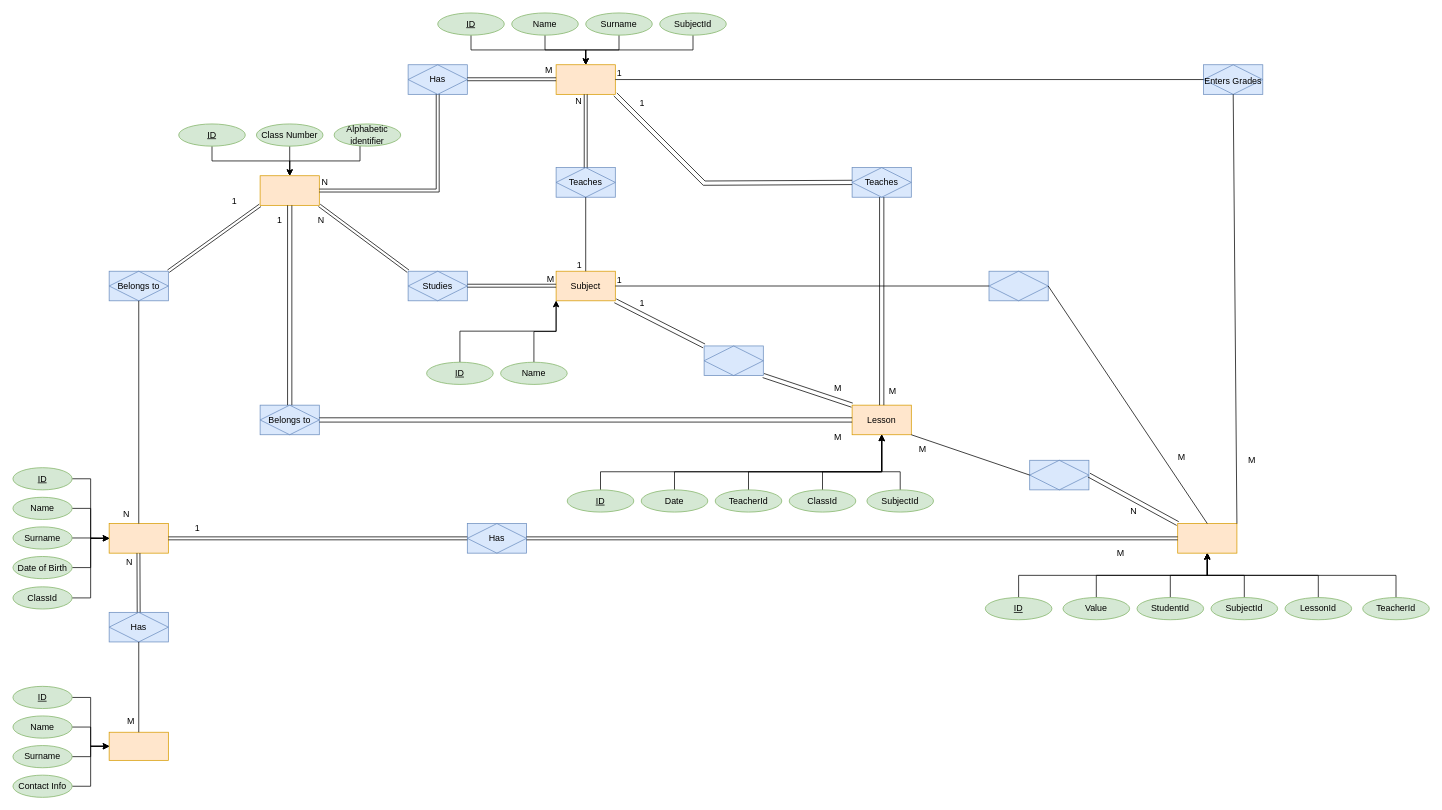
Some shapes in this 1442 by 810 pixel diagram are drawn without their labels. Each missing label, with the centre of its shape:
"Class" goes at point (289, 190).
"Grade" goes at point (1207, 538).
"Has Grades" goes at point (1018, 285).
"Parent" goes at point (138, 745).
"Related to" goes at point (1059, 475).
"Relates to" goes at point (733, 360).
"Student" goes at point (138, 538).
"Teacher" goes at point (585, 79).
